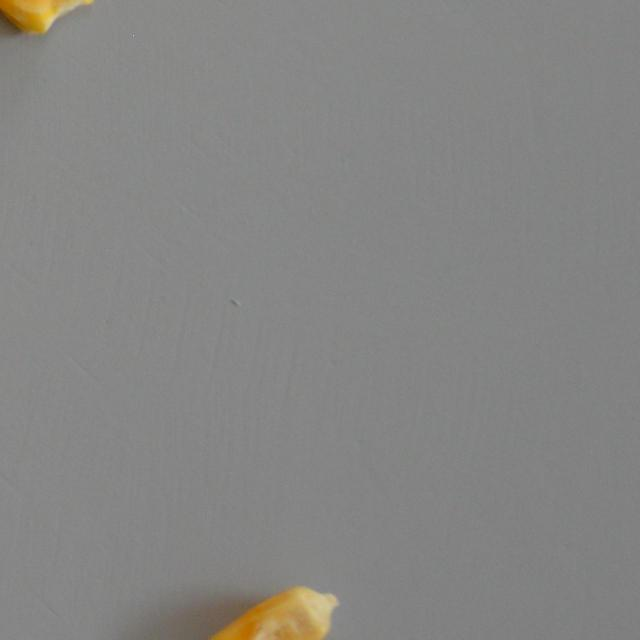entero: (189, 581, 346, 640)
no_canjicado: (0, 0, 94, 38)
